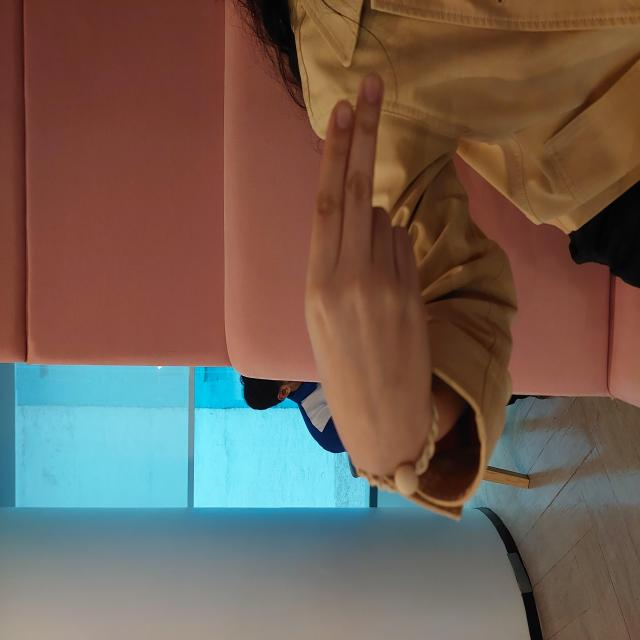H: (144, 298, 574, 434)
